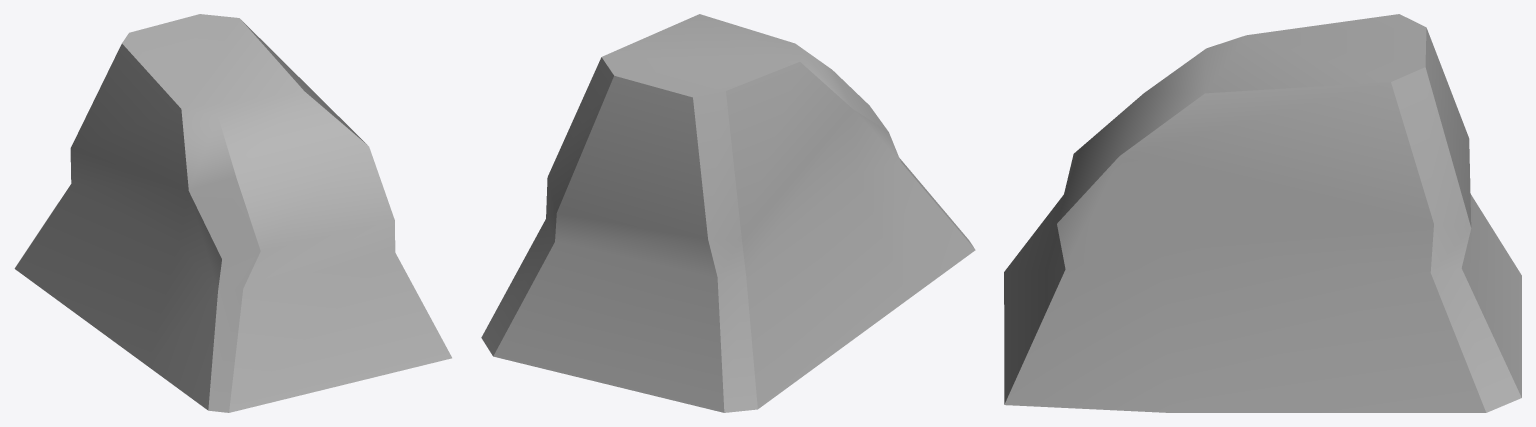
File: Ground Stone 7.fbx
3 renders of one model, left to right at view 1: azimuth 30°, elevation 25°; view 2: azimuth 150°, elevation 25°; view 3: azimuth 270°, elevation 25°, orthographic. The views are drawn at different scales.
Parts seen in each view (by area): view 1: Ground_Stone_7; view 2: Ground_Stone_7; view 3: Ground_Stone_7.
Boxes of the visible parts, x1,y1,x2,y2 form: Ground_Stone_7: [14, 14, 451, 412]; Ground_Stone_7: [481, 14, 975, 412]; Ground_Stone_7: [1004, 14, 1521, 412].
Size of the model in its own units: 1.75 by 1.59 by 2.57.
